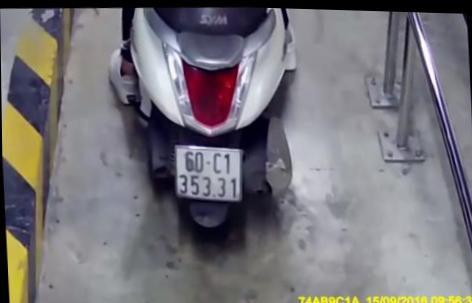LP: (175, 140, 244, 203)
